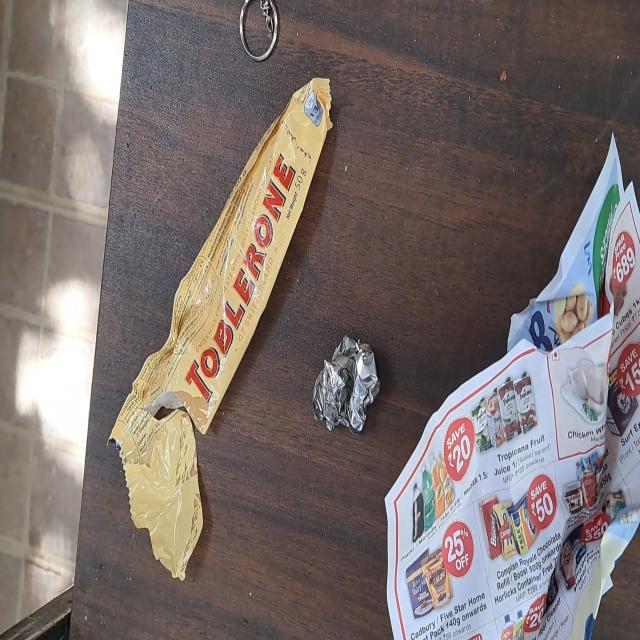Anorganik: (107, 77, 316, 582), (318, 329, 380, 438), (236, 0, 279, 60)
Organik: (385, 135, 640, 640)
